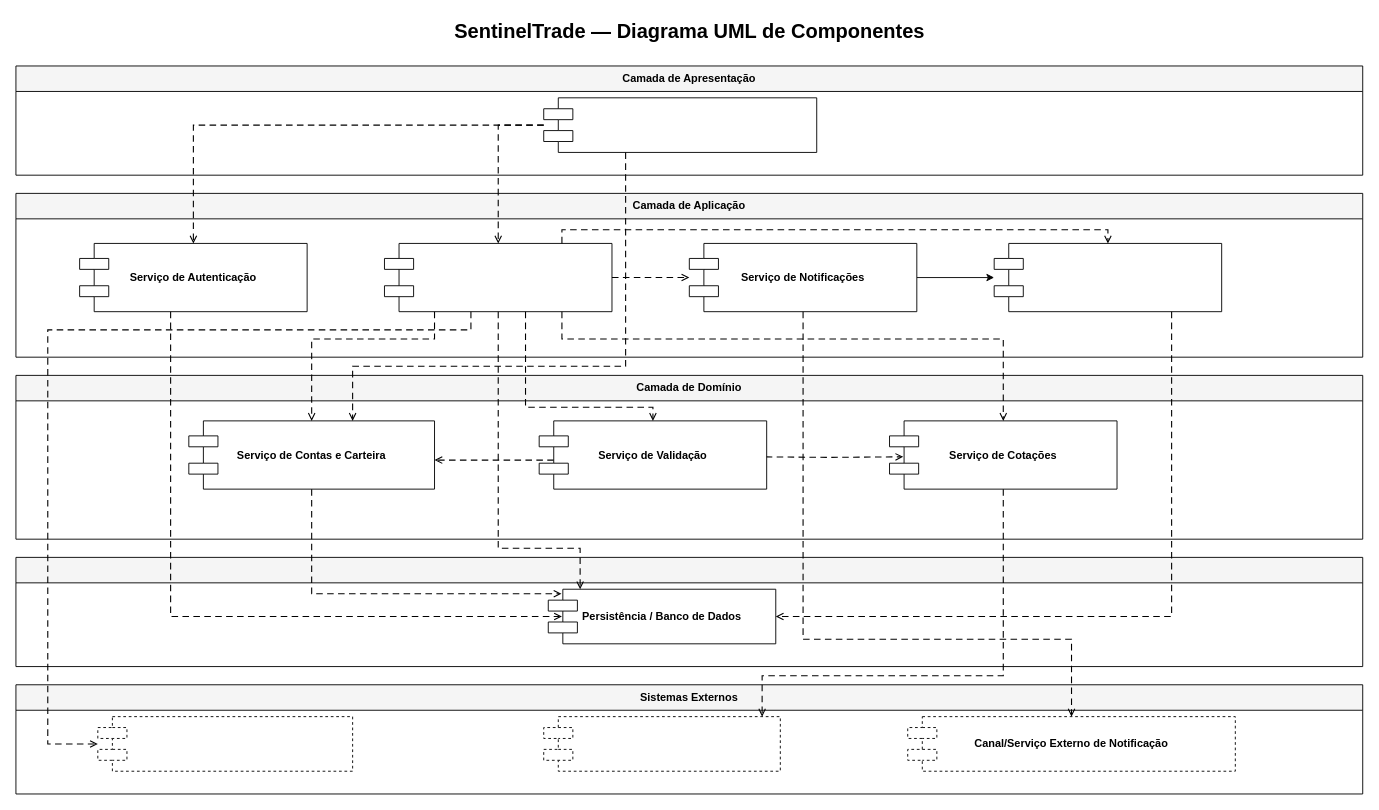
This 1379x810 diagram has some shape labels left out. Each missing label, with the box of its shape:
Bolsa/Corretora Simulada: (97, 716, 353, 771)
Interface do Investidor: (543, 97, 817, 152)
Provedor de Cotações: (543, 716, 780, 771)
Serviço de Auditoria: (993, 243, 1222, 312)
Serviço de Ordens: (384, 243, 612, 312)
Serviços Técnicos / Persistência: (15, 556, 1363, 667)
